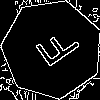F: (27, 24, 82, 75)
